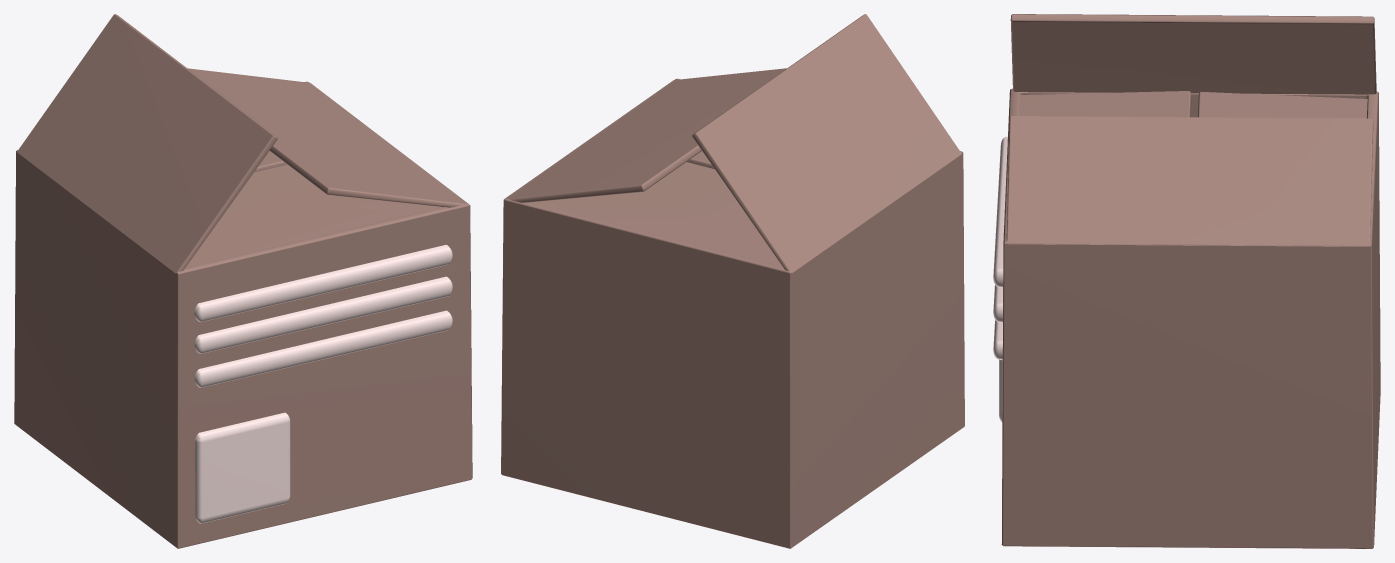
File: Public_6_Box_2.glb
3 renders of one model, left to right at view 1: azimuth 30°, elevation 25°; view 2: azimuth 150°, elevation 25°; view 3: azimuth 270°, elevation 25°, orthographic. The views are drawn at different scales.
Visible parts, largest first — view 1: Public_6_Box_2; view 2: Public_6_Box_2; view 3: Public_6_Box_2.
Boxes of the visible parts, x1=… form: Public_6_Box_2: x1=14, y1=14, x2=472, y2=548; Public_6_Box_2: x1=501, y1=14, x2=964, y2=548; Public_6_Box_2: x1=993, y1=14, x2=1380, y2=548.
Bounding box in the file's own units: 2.29 × 2.86 × 2.34.
1 material, 1 textured.
